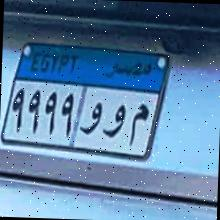9: (42, 86, 57, 138), (58, 89, 74, 136), (26, 88, 41, 134), (11, 86, 25, 132)
meem: (127, 100, 150, 150)
waw: (80, 99, 102, 140), (105, 98, 124, 140)
